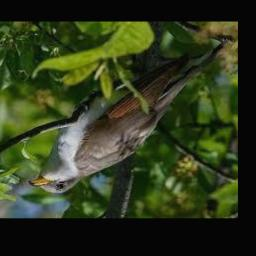Cuckoo: (29, 54, 201, 194)
